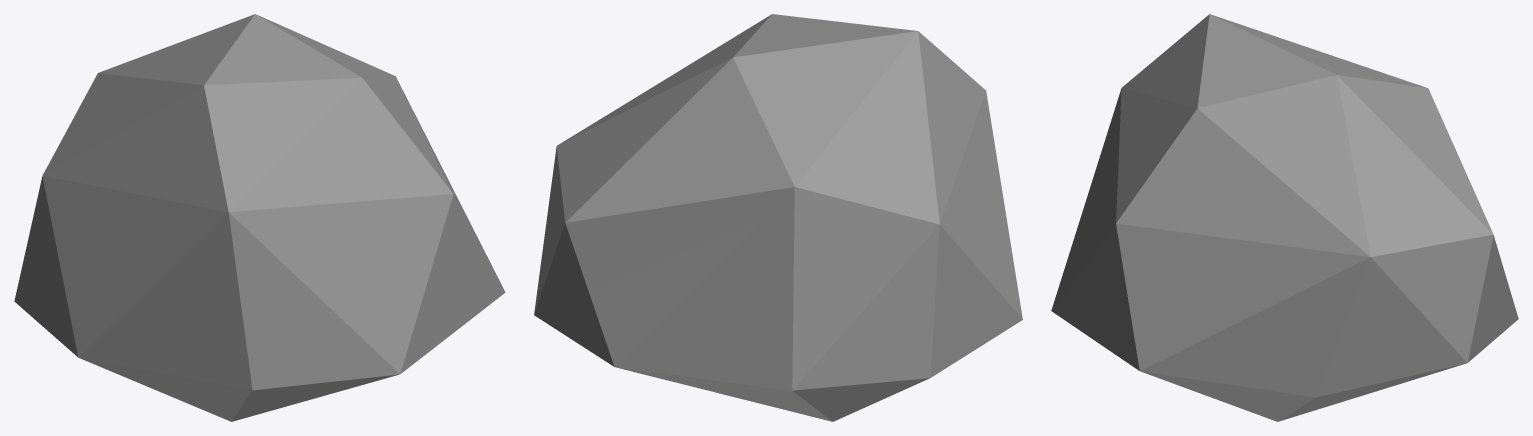
File: Rock1.obj
3 views of the same model, side by side, from view 1: azimuth 30°, elevation 25°; view 2: azimuth 150°, elevation 25°; view 3: azimuth 270°, elevation 25° (orthographic). The views are drawn at different scales.
Visible parts, largest first — view 1: Icosphere; view 2: Icosphere; view 3: Icosphere.
Boxes of the visible parts, x1,y1,x2,y2 form: Icosphere: [14, 14, 505, 421]; Icosphere: [534, 14, 1022, 421]; Icosphere: [1051, 14, 1518, 421].
Size of the model in its own units: 1.95 by 1.58 by 2.01.
Materials: 1 (1 with a texture image).
